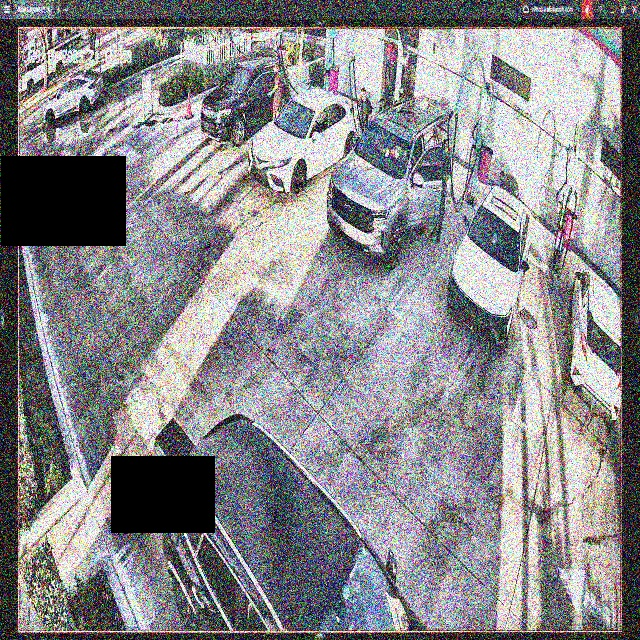Car: (157, 421, 428, 629), (332, 98, 449, 267), (448, 181, 532, 348), (248, 88, 373, 187)
